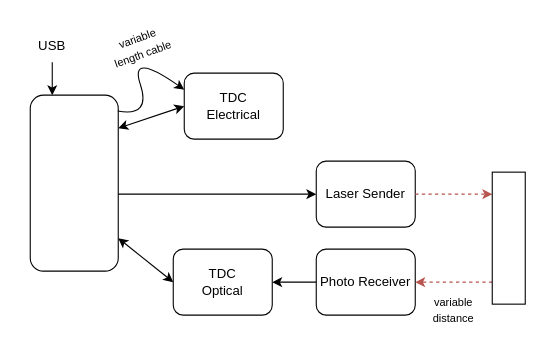
Image size: 545x345. Some labels were removed from this diagram. The centre of each missing label's shape, as x and y in pixels:
"MCU" goes at point 73,182.
"Target" goes at point 508,237.
